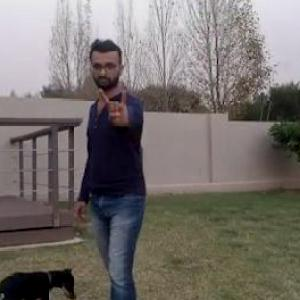takeoff-hand: (96, 74, 138, 134)
